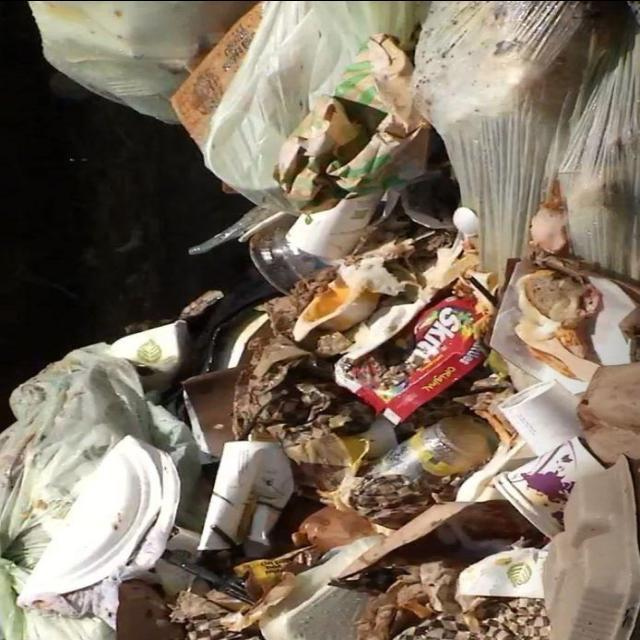Garbage: (0, 2, 640, 637)
Glass_bottle: (369, 415, 497, 488)
Plastic_Bag: (202, 0, 637, 276), (0, 342, 186, 640), (29, 0, 253, 122), (336, 295, 483, 421)
contaminated_waste: (240, 209, 331, 292)
